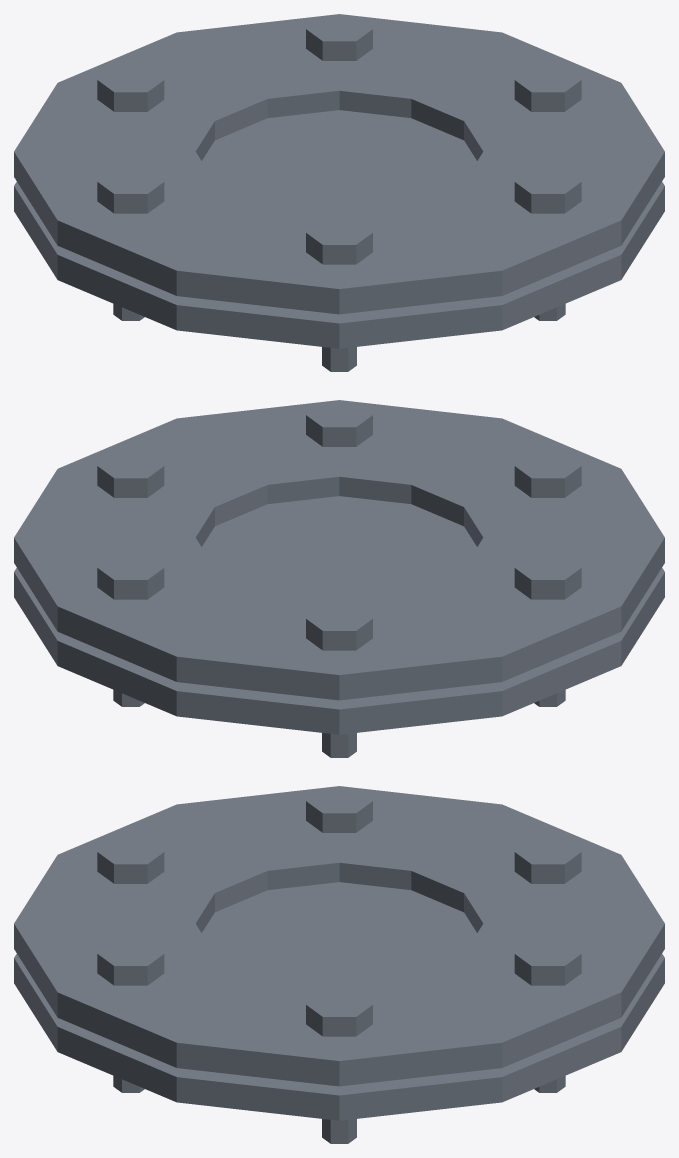
The picture shows the model from 3 angles, top to bottom: view 1: azimuth 30°, elevation 25°; view 2: azimuth 150°, elevation 25°; view 3: azimuth 270°, elevation 25°; orthographic projection.
Visible parts, largest first — view 1: Cylinder.010; view 2: Cylinder.010; view 3: Cylinder.010.
Boxes of the visible parts, x1=… form: Cylinder.010: x1=14, y1=14, x2=664, y2=371; Cylinder.010: x1=14, y1=400, x2=664, y2=757; Cylinder.010: x1=14, y1=786, x2=664, y2=1143.
Bounding box in the file's own units: 0.912 × 0.2054 × 0.912.
